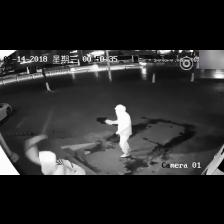person: (25, 135, 85, 174), (105, 105, 131, 157)
